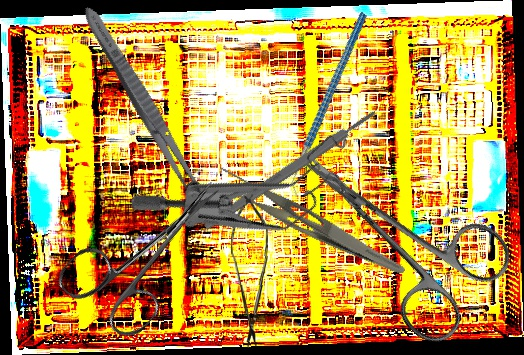Chopper: (240, 11, 420, 199)
Dressing Forceps: (76, 1, 211, 205), (207, 163, 416, 277)
Iris Scissors: (267, 107, 523, 353), (52, 149, 250, 349)
Micro Scissor: (229, 190, 272, 351)
Scalpel Handle: (202, 107, 379, 233)
Speculum: (125, 70, 374, 301)
